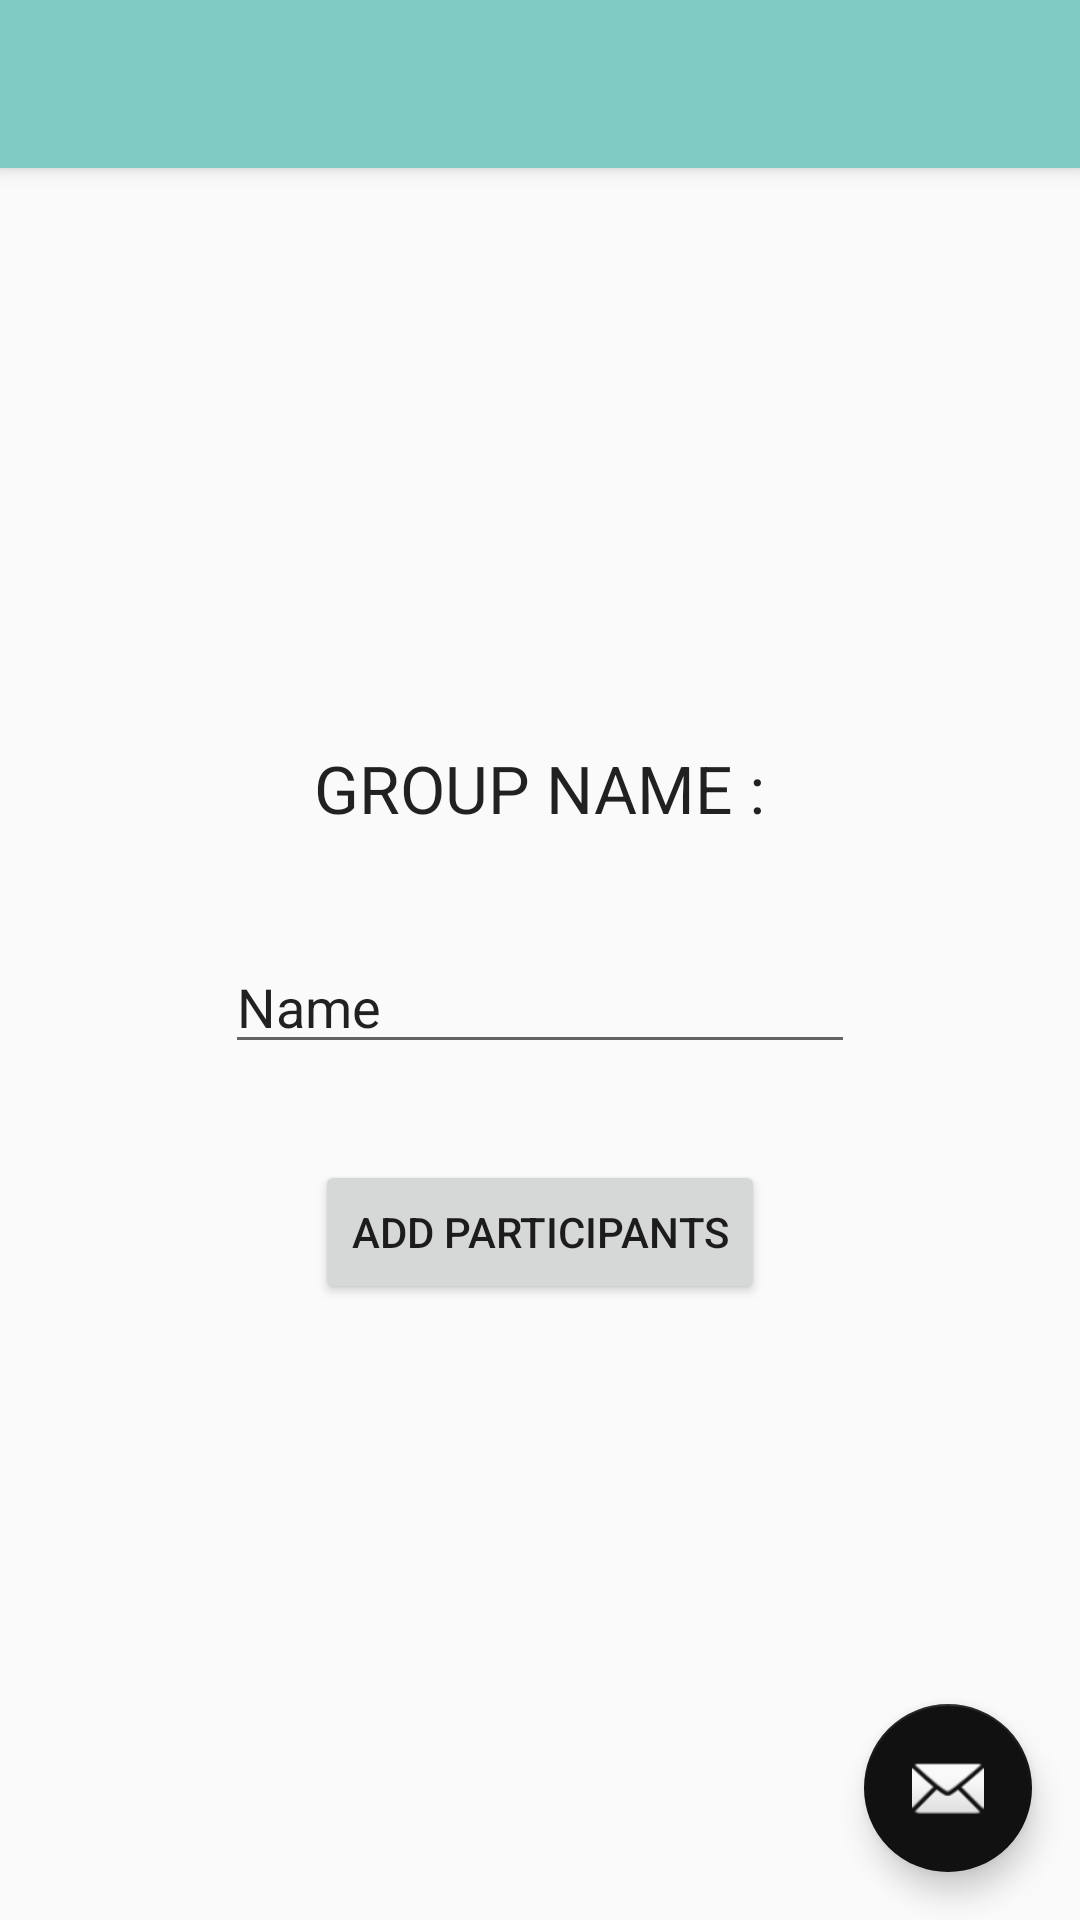

Icons on this 1080 x 1920 Android screen, each with the point to tap as [x,y]:
email: [948,1788]
